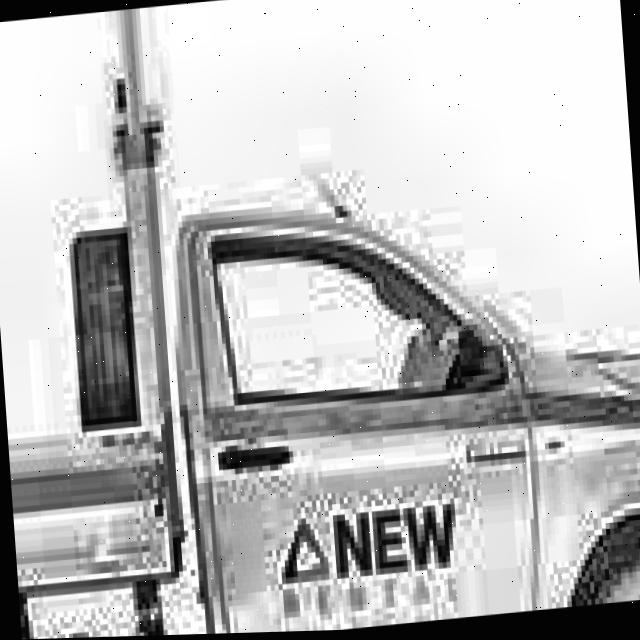light_vehicle: (0, 163, 640, 640)
